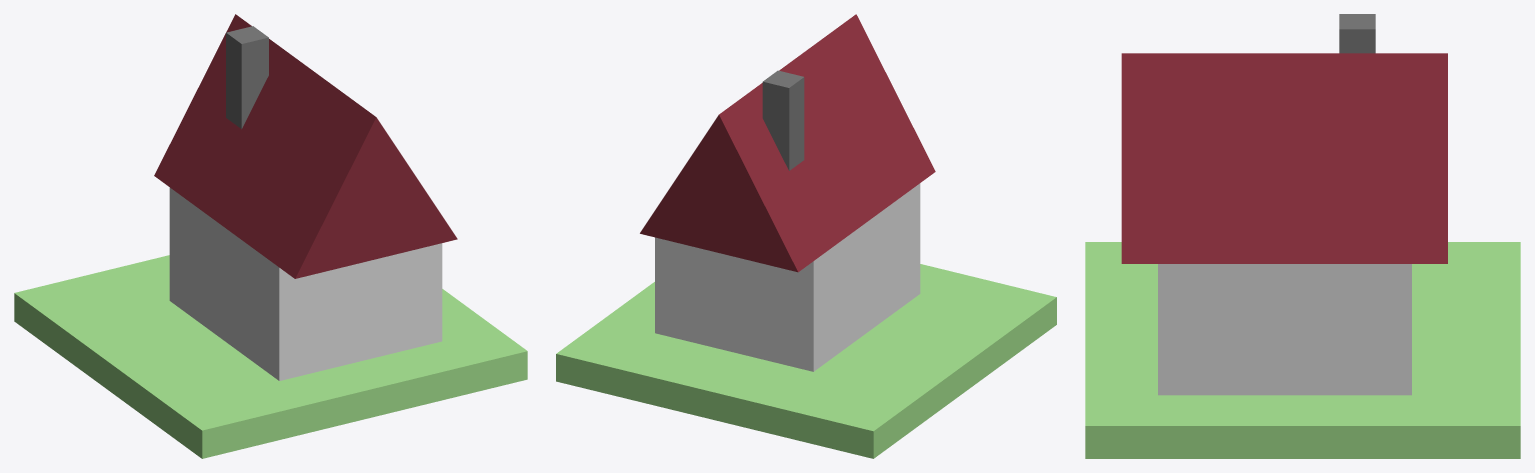
The model's file is house.glb.
The picture shows the model from 3 angles, left to right: view 1: azimuth 30°, elevation 25°; view 2: azimuth 150°, elevation 25°; view 3: azimuth 270°, elevation 25°; orthographic projection. The views are drawn at different scales.
Visible parts, largest first — view 1: Cube, Cube.002, Cube.001, Cube.003; view 2: Cube, Cube.002, Cube.001, Cube.003; view 3: Cube.002, Cube, Cube.001, Cube.003.
Part boxes in pixels (<box>): Cube: <box>14,255,527,458</box>; Cube.002: <box>154,14,457,278</box>; Cube.001: <box>169,187,442,380</box>; Cube.003: <box>226,26,268,128</box>; Cube: <box>556,264,1056,458</box>; Cube.002: <box>640,14,935,272</box>; Cube.001: <box>655,183,920,371</box>; Cube.003: <box>762,70,804,170</box>; Cube.002: <box>1121,53,1447,263</box>; Cube: <box>1085,242,1520,458</box>; Cube.001: <box>1158,264,1411,395</box>; Cube.003: <box>1339,14,1375,53</box>.
Bounding box in the file's own units: 12 × 10.5 × 12.
